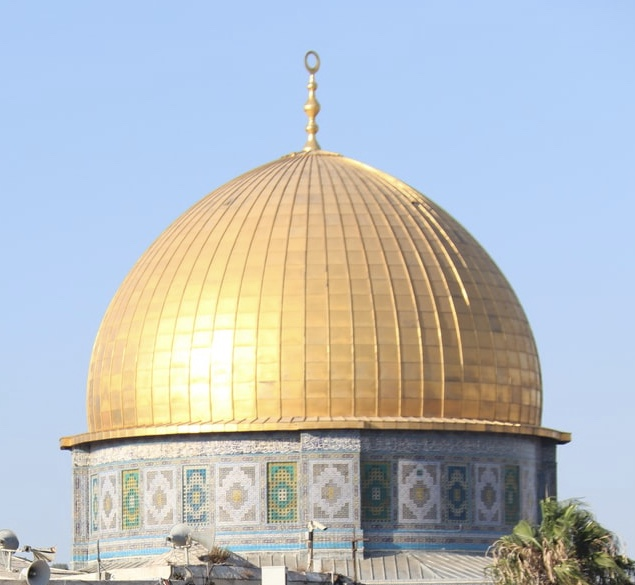Mosque: (25, 56, 577, 547)
